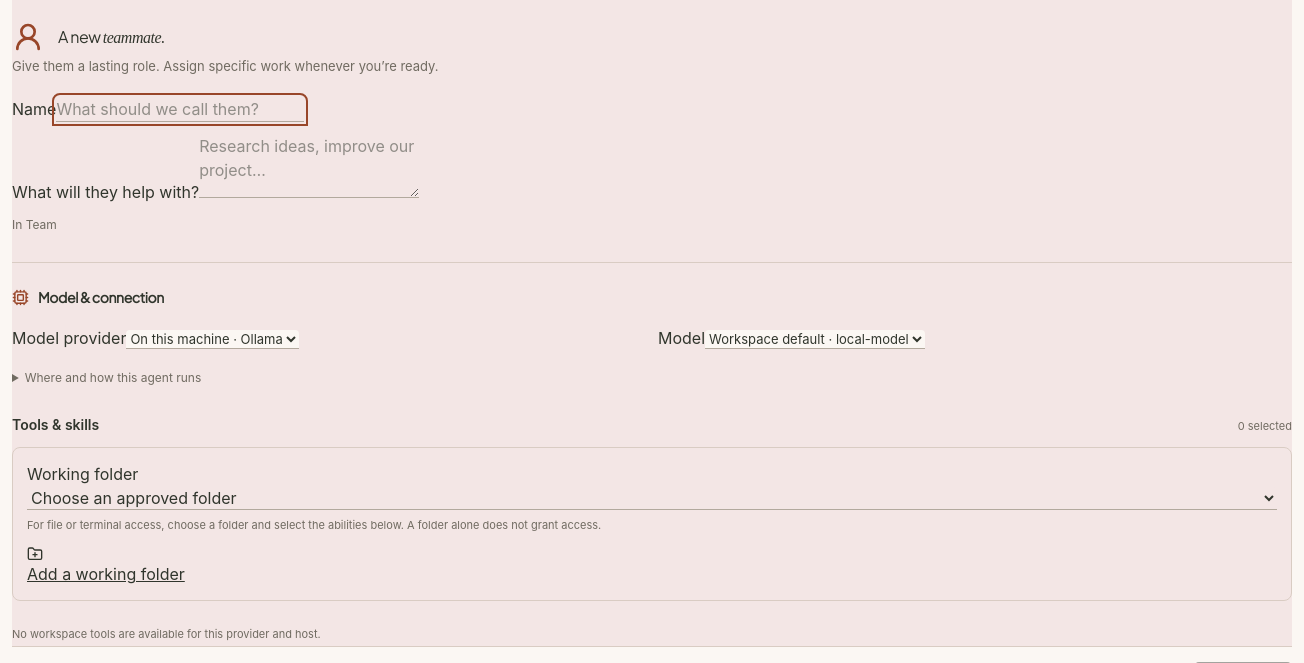
Test case: can add the first folder before file tools become available
The width and height of the screenshot is (1304, 663).
Expected: the field labelled "Name" is shown, 56,96 -> 304,122
Expected: the checkbox labelled "Read files" is not shown
Click the button "Add a working folder": (106, 566) 27,546 -> 185,586
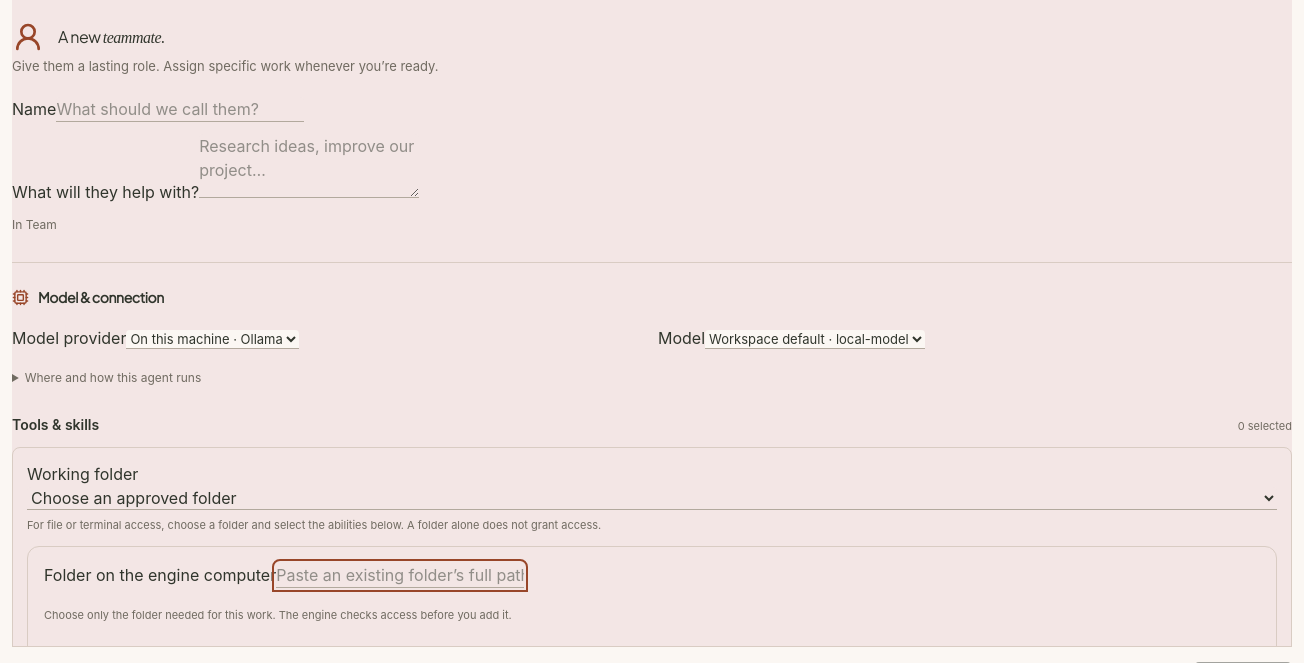
In the field labelled "Folder on the engine computer": (400, 576) 276,563 -> 524,588, type "C:/research"
Then press Enter
(page scrolled)
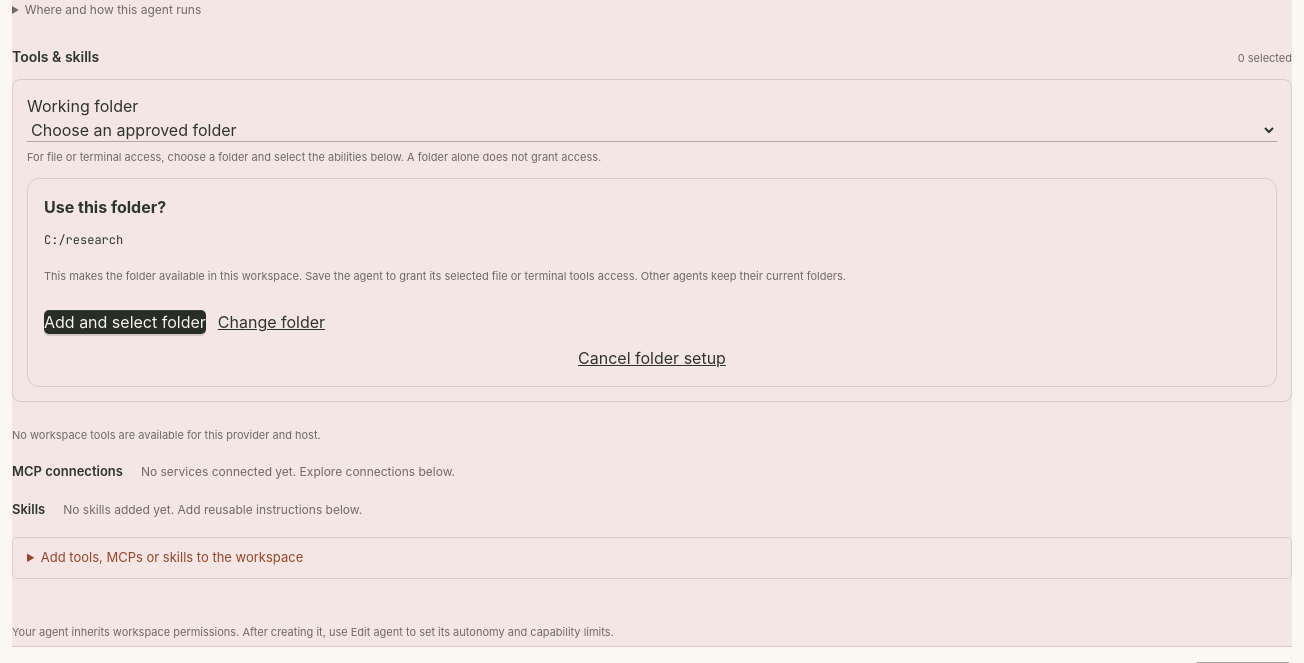
Click the button "Add and select folder": (125, 322) 44,310 -> 206,334
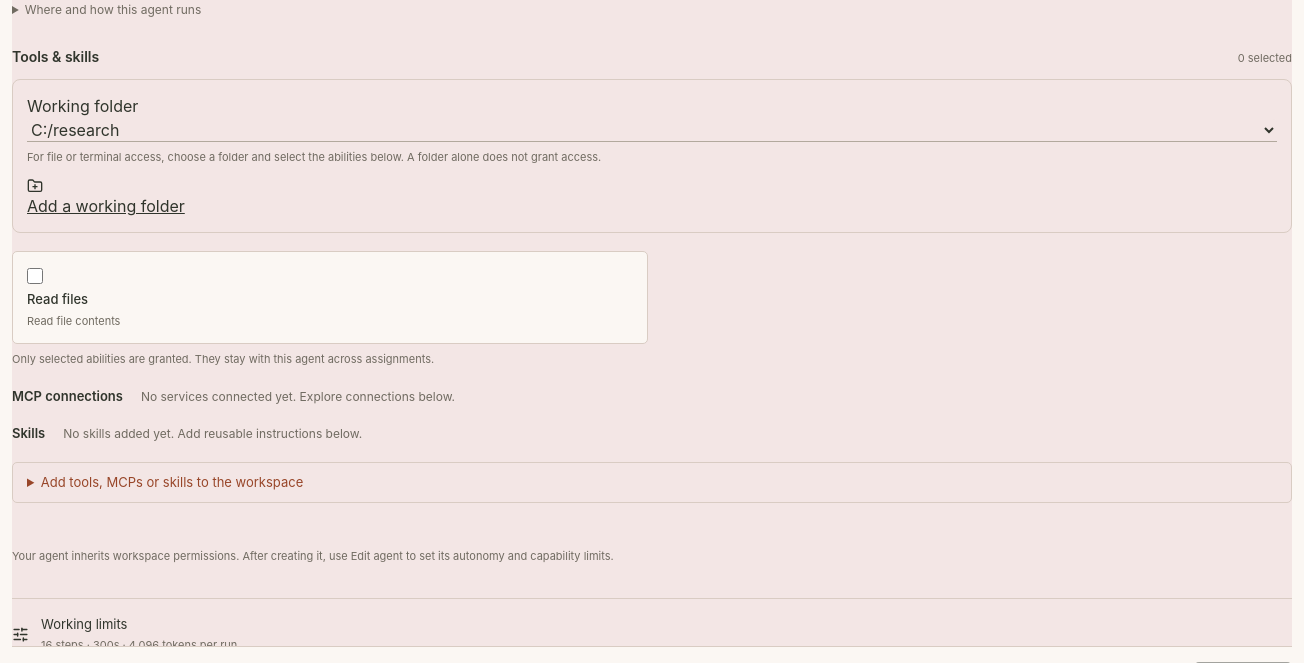
Expected: the checkbox labelled "Read files" is not checked, 27,268 -> 43,284
Expected: the dropdown labelled "Working folder" shows "C:/research", 27,118 -> 1277,142
